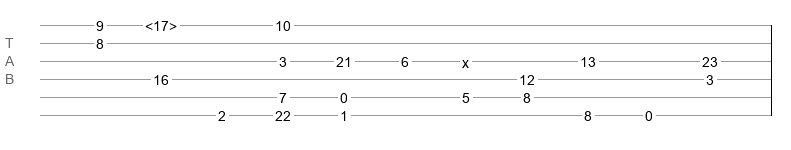0: (340, 90, 348, 100), (645, 108, 653, 118)
1: (340, 108, 348, 118)
10: (275, 18, 291, 28)
12: (519, 72, 535, 82)
13: (580, 54, 596, 64)
16: (153, 72, 169, 82)
2: (218, 108, 226, 118)
21: (336, 54, 352, 64)
22: (275, 108, 291, 118)
23: (702, 54, 718, 64)
3: (279, 54, 287, 64), (706, 72, 714, 82)
5: (462, 90, 470, 100)
6: (401, 54, 409, 64)
7: (279, 90, 287, 100)
8: (96, 36, 104, 46), (523, 90, 531, 100), (584, 108, 592, 118)
9: (96, 18, 104, 28)
harmonic: (145, 18, 177, 28)
x: (462, 55, 469, 63)
